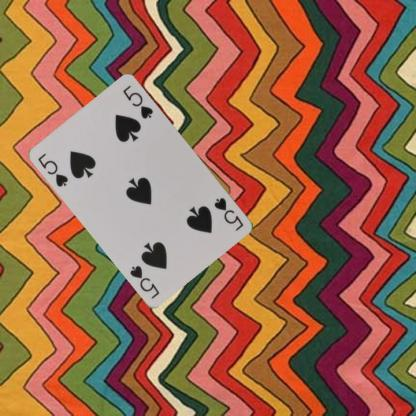5s: (35, 150, 70, 188), (212, 195, 245, 232)
